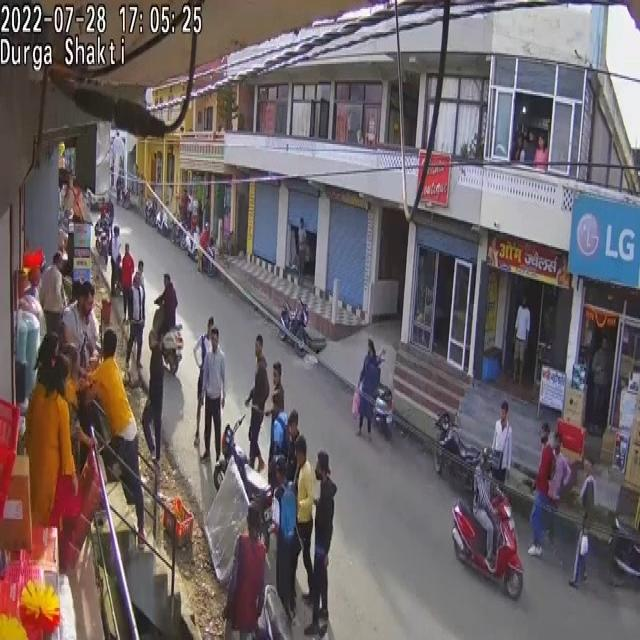fight: (11, 206, 178, 559), (201, 322, 339, 636), (81, 332, 141, 544), (25, 339, 82, 545), (222, 504, 266, 639), (60, 281, 100, 378)
non-fight: (308, 451, 337, 633), (274, 453, 302, 623), (292, 437, 317, 611), (198, 328, 225, 464), (529, 425, 555, 556), (140, 337, 164, 462), (246, 348, 270, 471), (356, 336, 381, 435), (125, 272, 146, 376), (490, 400, 513, 484), (546, 436, 572, 510), (513, 294, 531, 384), (153, 274, 178, 336), (281, 408, 301, 485), (120, 244, 135, 324), (109, 224, 123, 296), (199, 224, 211, 272), (298, 218, 308, 275)
